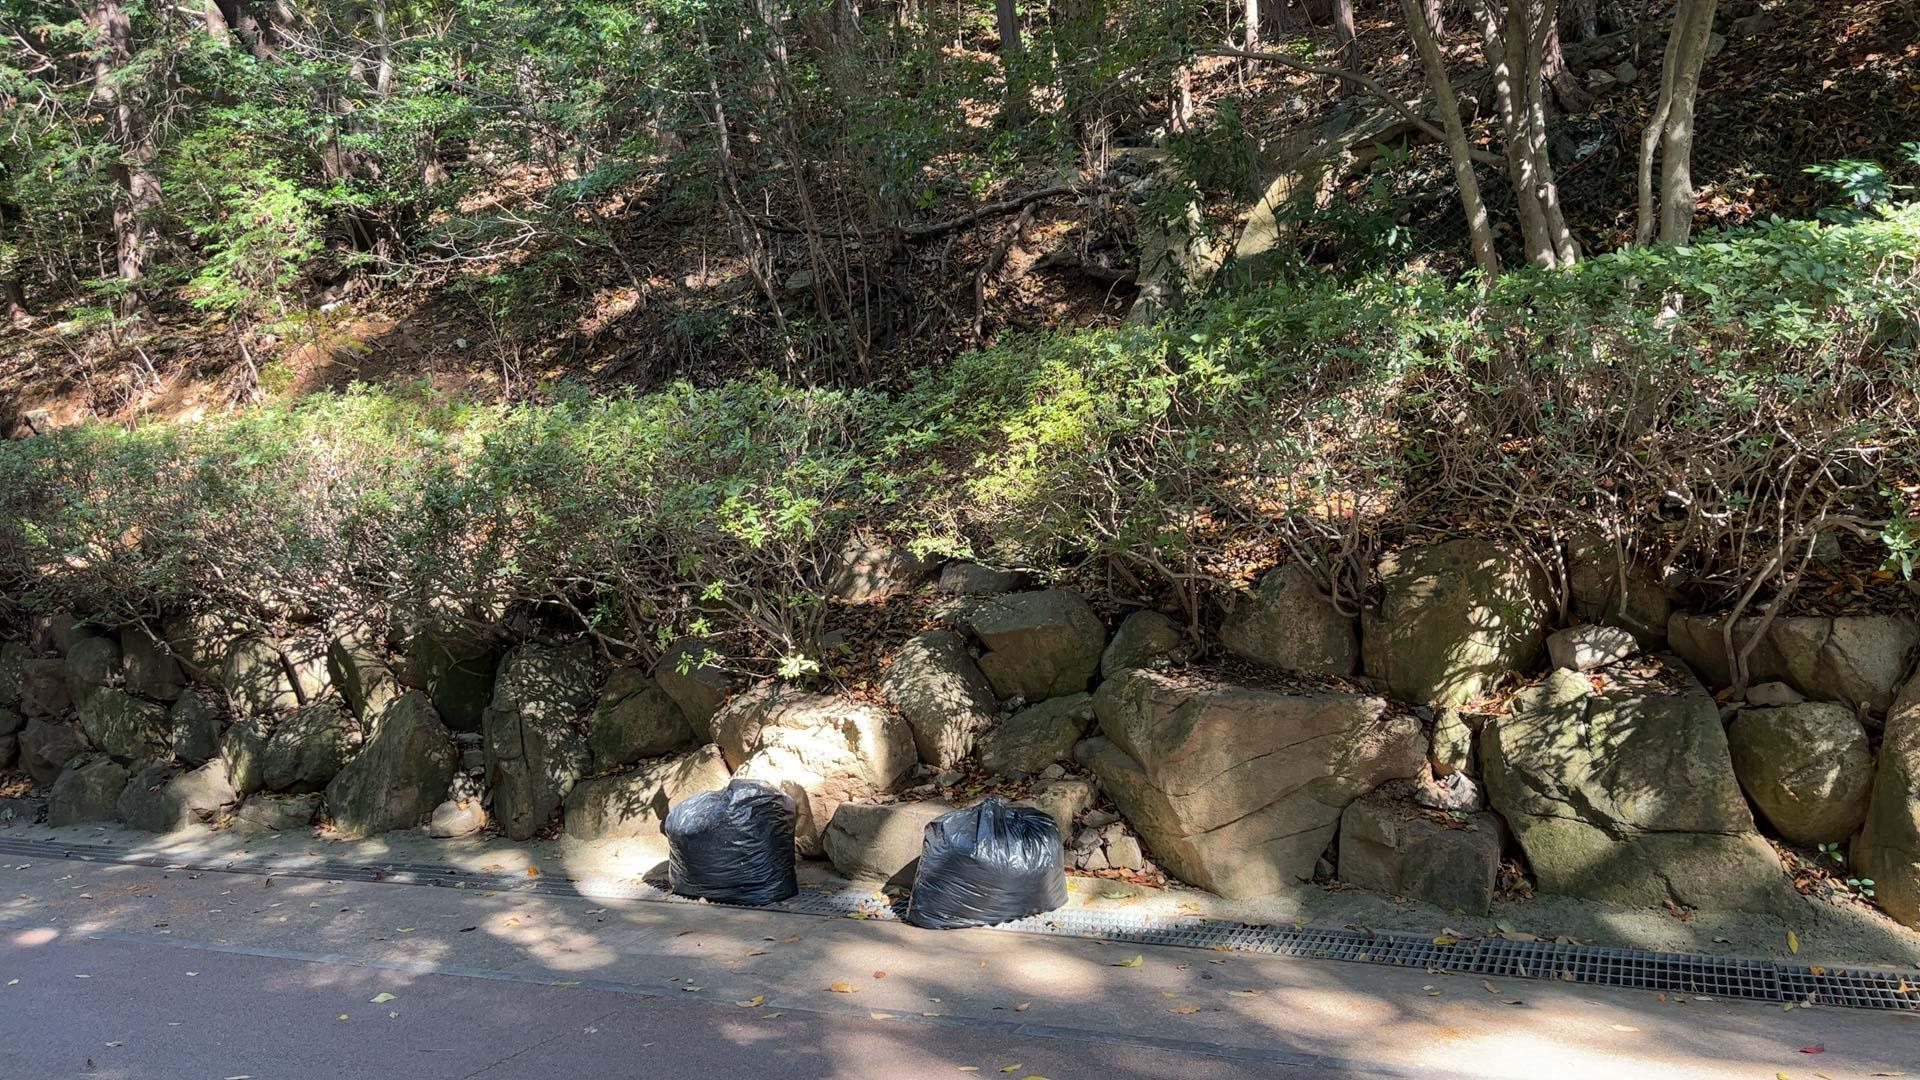black_bag: (891, 800, 1073, 936), (654, 773, 807, 911)
